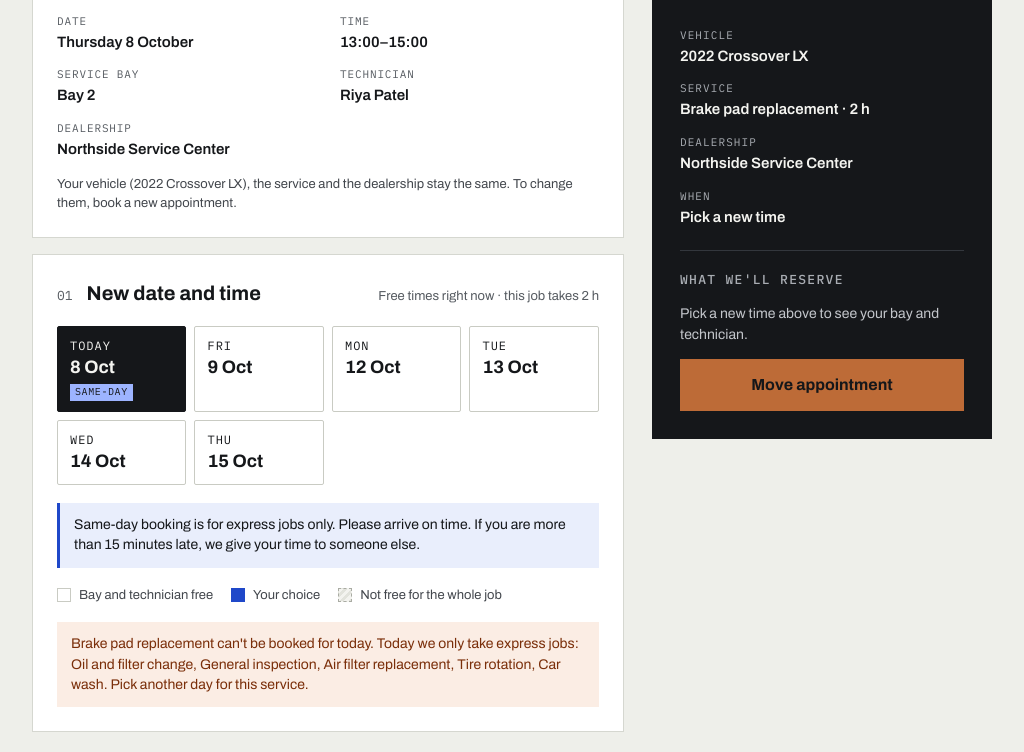
Test: W6-F5 reschedule findings › F5-1 starts with nothing selected: summary says "Pick a new time" and Move appointment is disabled until a pick
(page scrolled)
Click the button "FRI 9 Oct". click: {"x": 259, "y": 368}
box: [194,326,324,412]
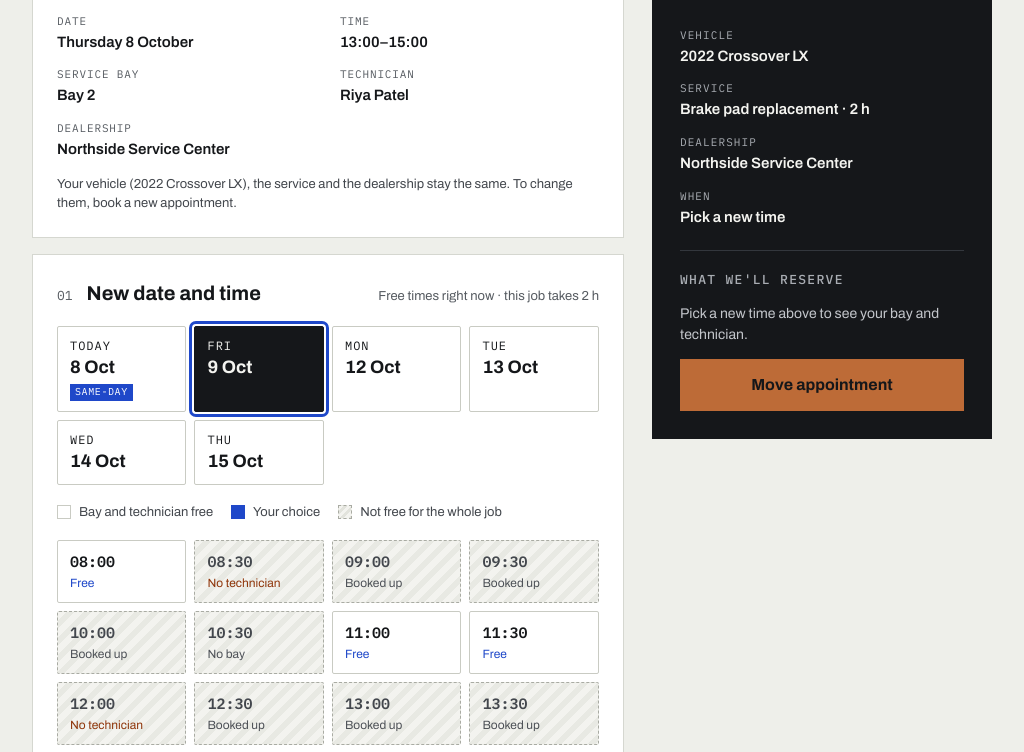
expect the text "Pick a new time" is shown: met, box [680,209,785,225]
expect the button "Move appointment" is disabled: met, box [680,359,964,411]
Click the button "08:00 Free". click: {"x": 122, "y": 571}
box: [57,540,186,603]
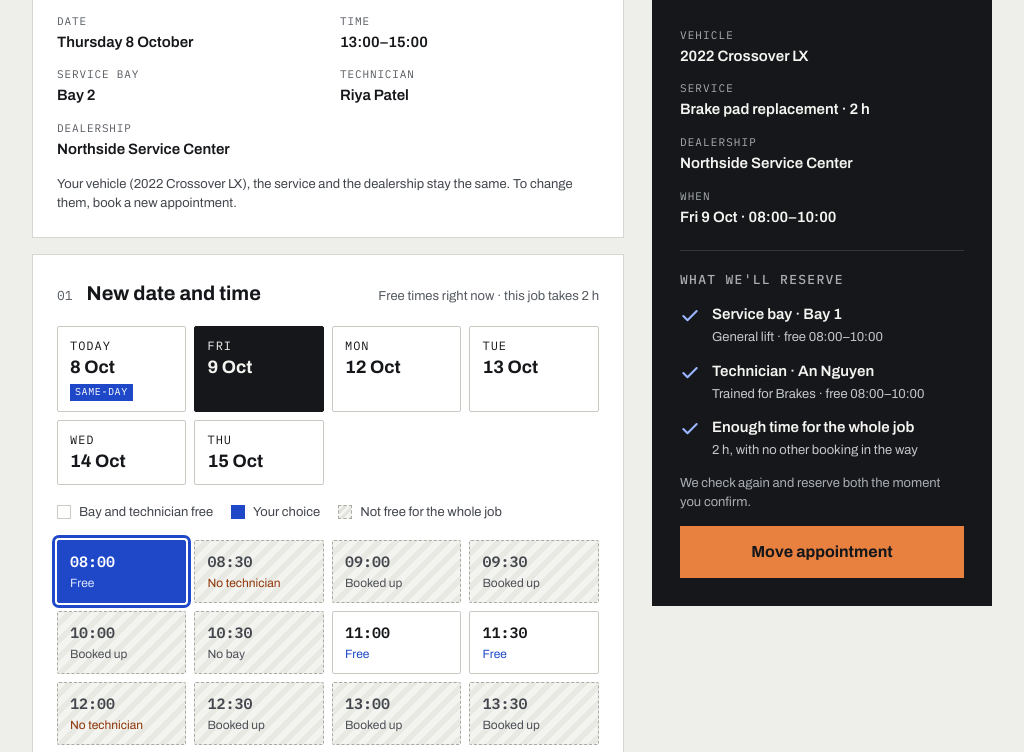
expect the button "Move appointment" is enabled: met, box [680,526,964,578]
